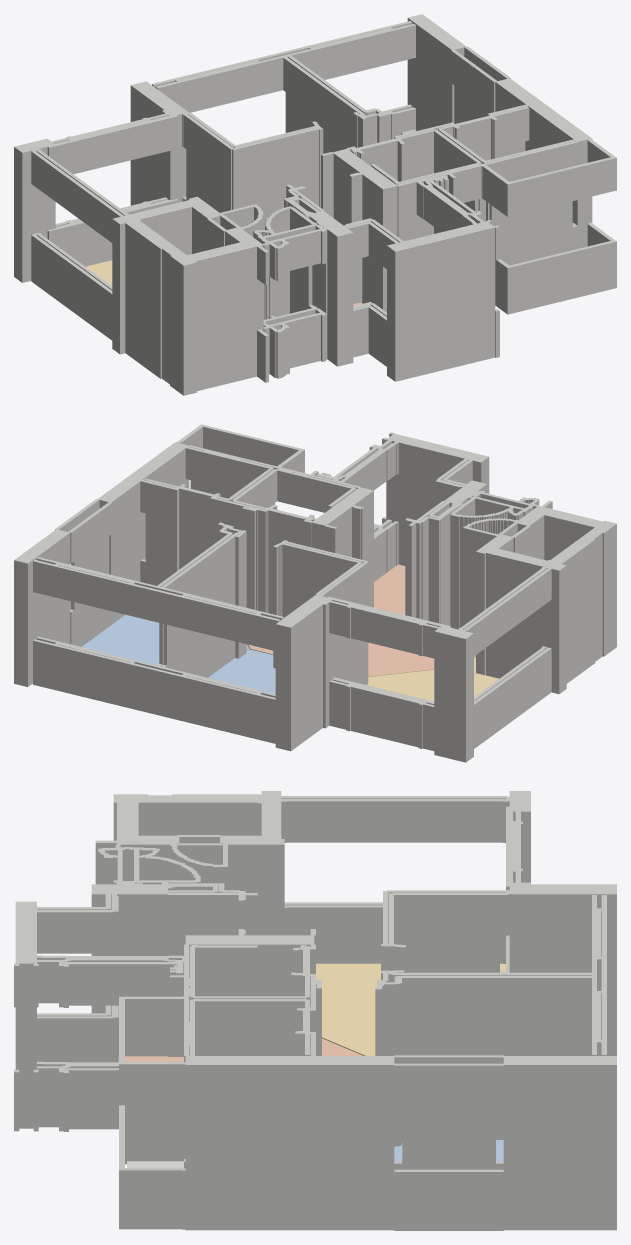
3 renders of one model, top to bottom at view 1: azimuth 30°, elevation 25°; view 2: azimuth 150°, elevation 25°; view 3: azimuth 270°, elevation 25°, orthographic. The views are drawn at different scales.
Visible parts, largest first — view 1: walls; view 2: walls, room:bedroom:1, room:bedroom:0, room:living:7, room:kitchen:8, room:kitchen:5; view 3: walls, room:living:7.
Boxes of the visible parts, x1,y1,x2,y2 form: walls: (14, 14, 616, 395); walls: (14, 424, 616, 762); room:bedroom:1: (82, 614, 249, 665); room:bedroom:0: (208, 649, 275, 694); room:living:7: (367, 657, 499, 701); room:kitchen:8: (247, 642, 475, 676); room:kitchen:5: (374, 564, 405, 614); walls: (14, 791, 616, 1230); room:living:7: (316, 963, 505, 1055).
Bounding box in the file's own units: 9.98 × 2.8 × 9.26.
